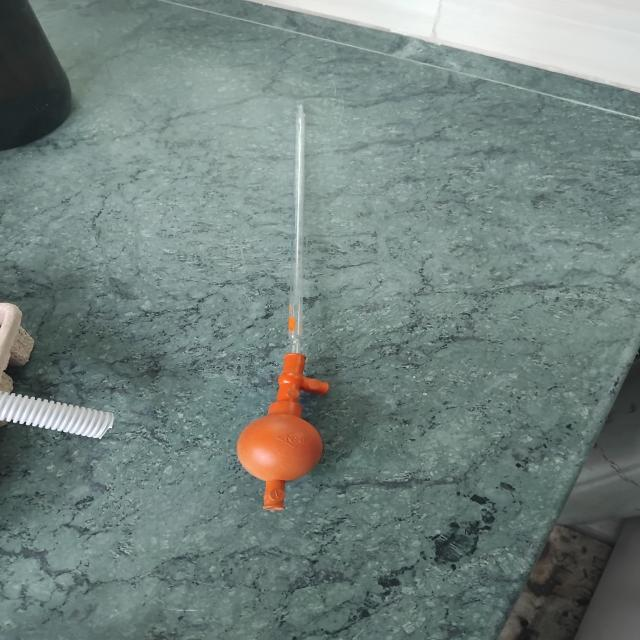Volumetric_Pipet: (200, 63, 378, 526)
